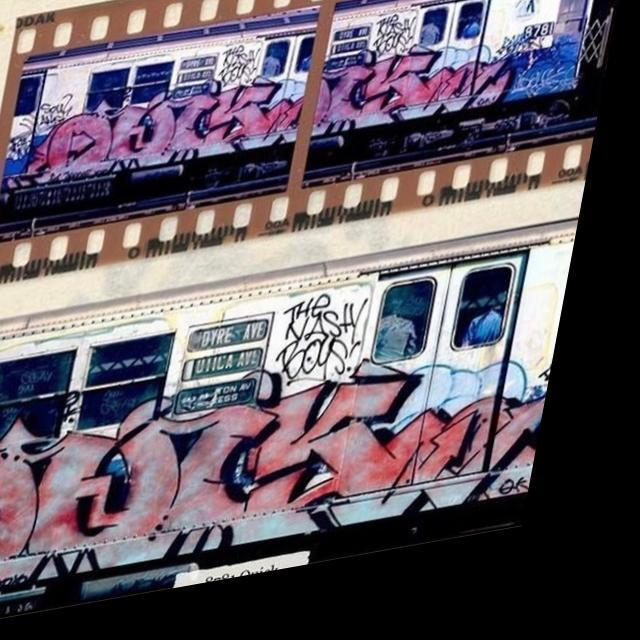-: (0, 360, 574, 591), (37, 44, 527, 190), (278, 298, 388, 414), (220, 46, 287, 104), (373, 20, 430, 83), (518, 78, 592, 126), (42, 95, 78, 134), (514, 493, 554, 525), (558, 358, 574, 410)
